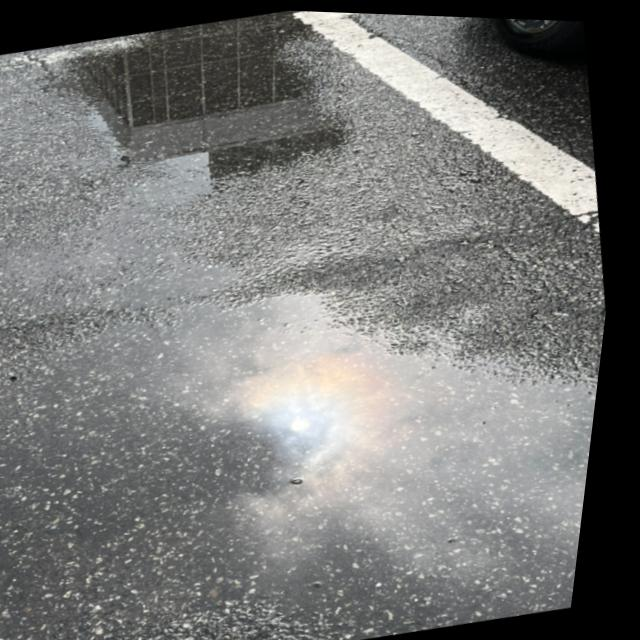puddle: (14, 186, 624, 640), (53, 3, 373, 220)
